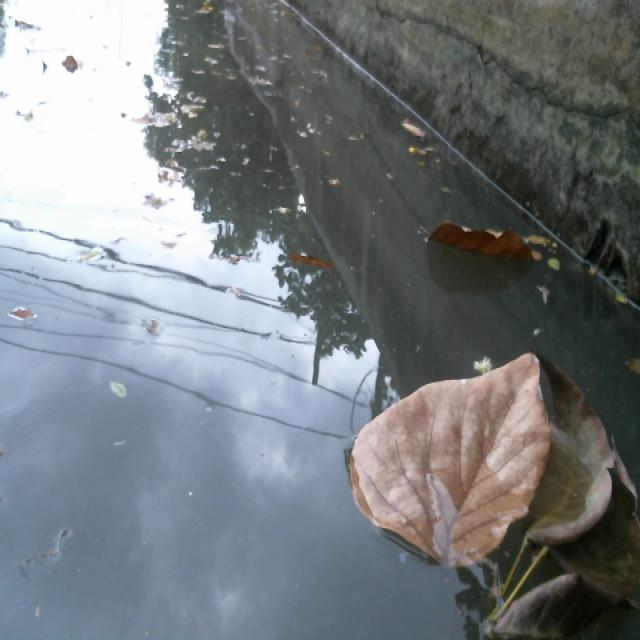Big-leaf: (355, 321, 559, 578), (468, 361, 639, 640), (420, 202, 535, 265)
Small-leaf: (278, 242, 348, 290), (577, 266, 640, 314), (87, 369, 137, 418), (530, 230, 563, 280), (393, 115, 431, 145), (410, 141, 441, 177), (0, 305, 48, 324)
